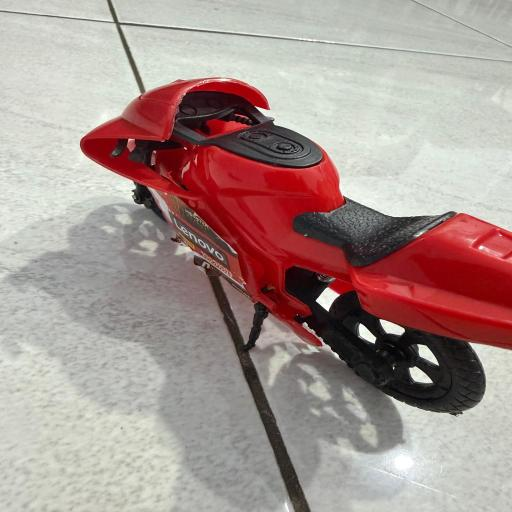motor-merah: (78, 76, 511, 418)
